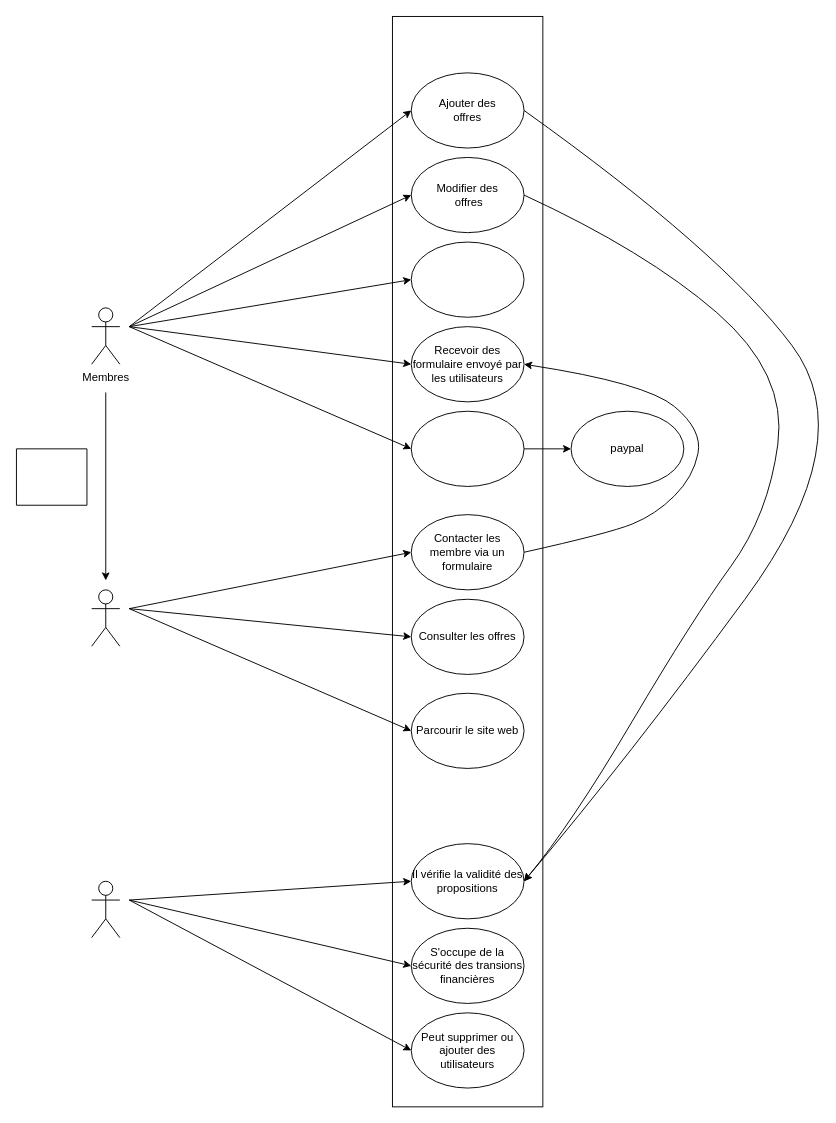
The diagram is 836 pixels wide and 1123 high, and some of its shapes have lost their labels. The centre of each missing label's shape, as x and y in pixels:
"Acheter des offres" goes at point 467,448.
"Administrateur" goes at point 105,909.
"Hérite des droits" goes at point 51,476.
"Supprimer des offres" goes at point 467,279.
"Utilisateurs" goes at point 105,617.
